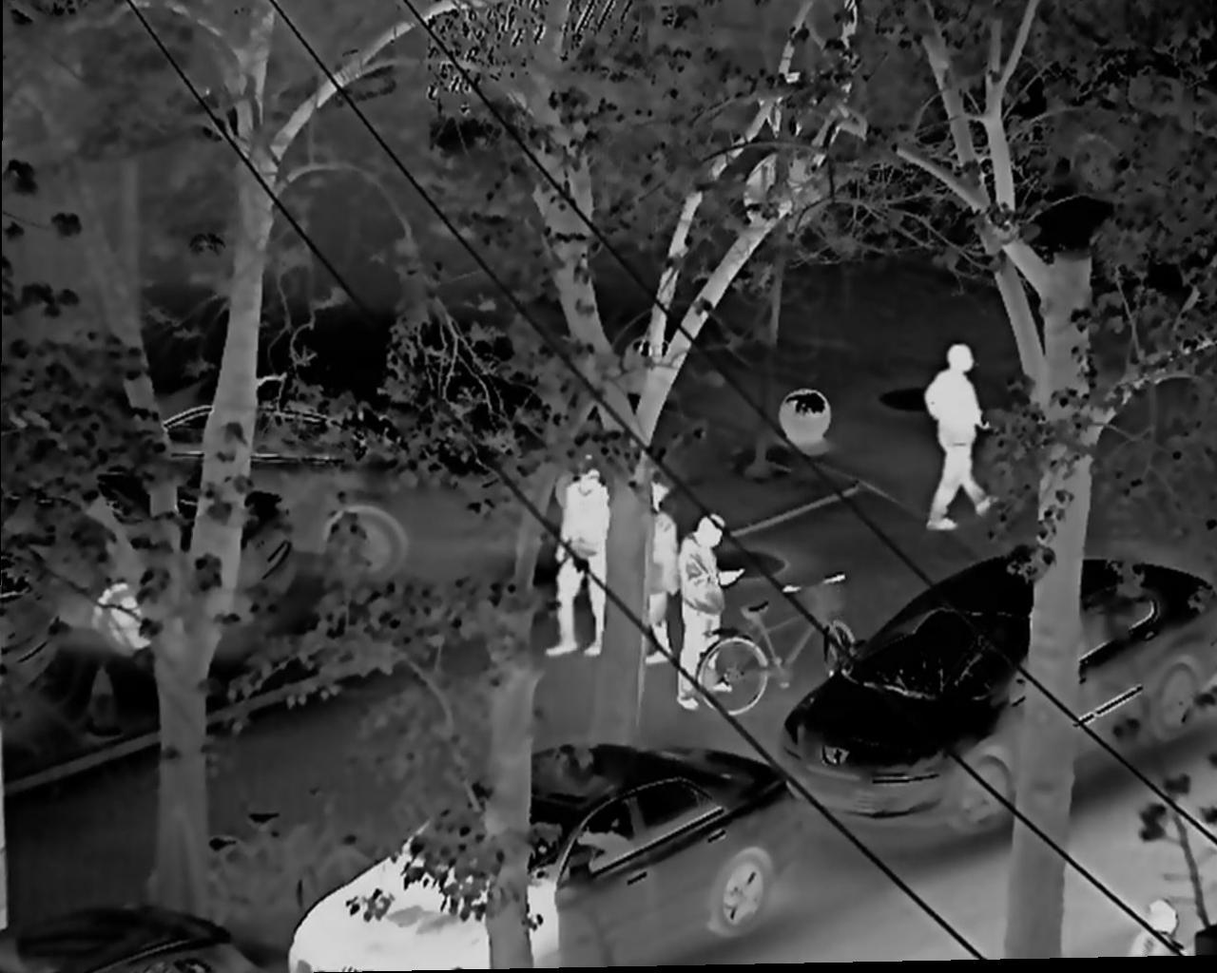person: (923, 341, 997, 530), (675, 512, 745, 708), (551, 471, 605, 659), (650, 481, 679, 664)
